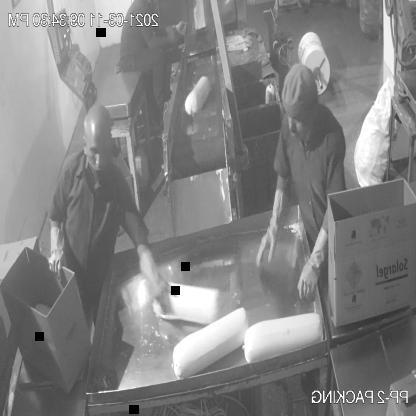glove: (248, 180, 294, 274), (134, 241, 177, 322), (295, 224, 333, 304), (47, 217, 73, 286)
no_glove: (144, 20, 188, 53)
